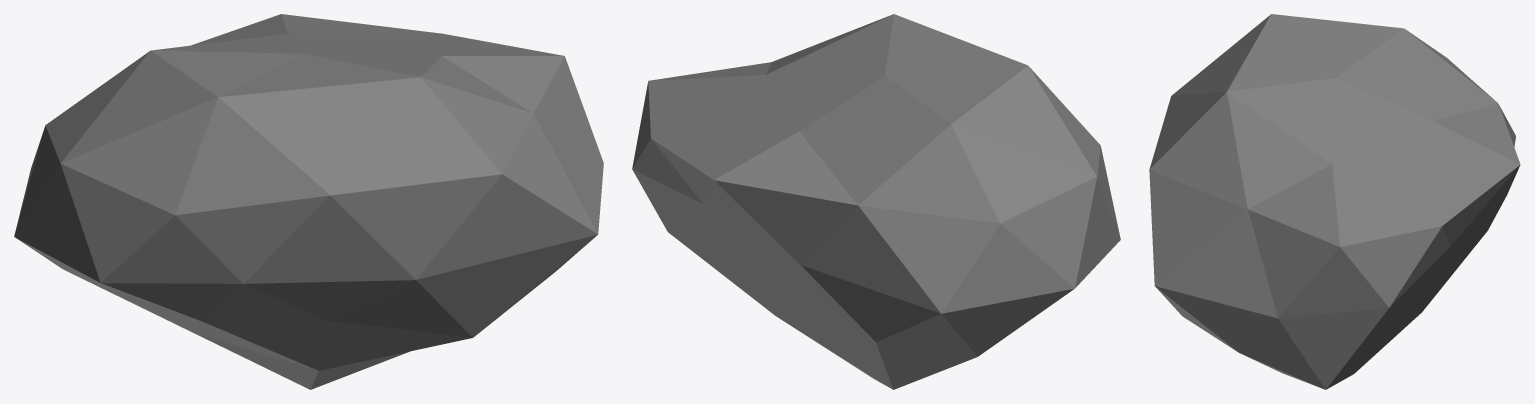
Rendered from rock-m-sharp.glb.
The picture shows the model from 3 angles, left to right: view 1: azimuth 30°, elevation 25°; view 2: azimuth 150°, elevation 25°; view 3: azimuth 270°, elevation 25°; orthographic projection. The views are drawn at different scales.
Visible parts, largest first — view 1: rock-m-sharp; view 2: rock-m-sharp; view 3: rock-m-sharp.
Boxes of the visible parts, <box> form: rock-m-sharp: <box>14,14,603,389</box>; rock-m-sharp: <box>632,14,1120,389</box>; rock-m-sharp: <box>1149,14,1520,389</box>.
Bounding box in the file's own units: 2.35 × 1.54 × 1.7.
Materials: 1 (1 with a texture image).
